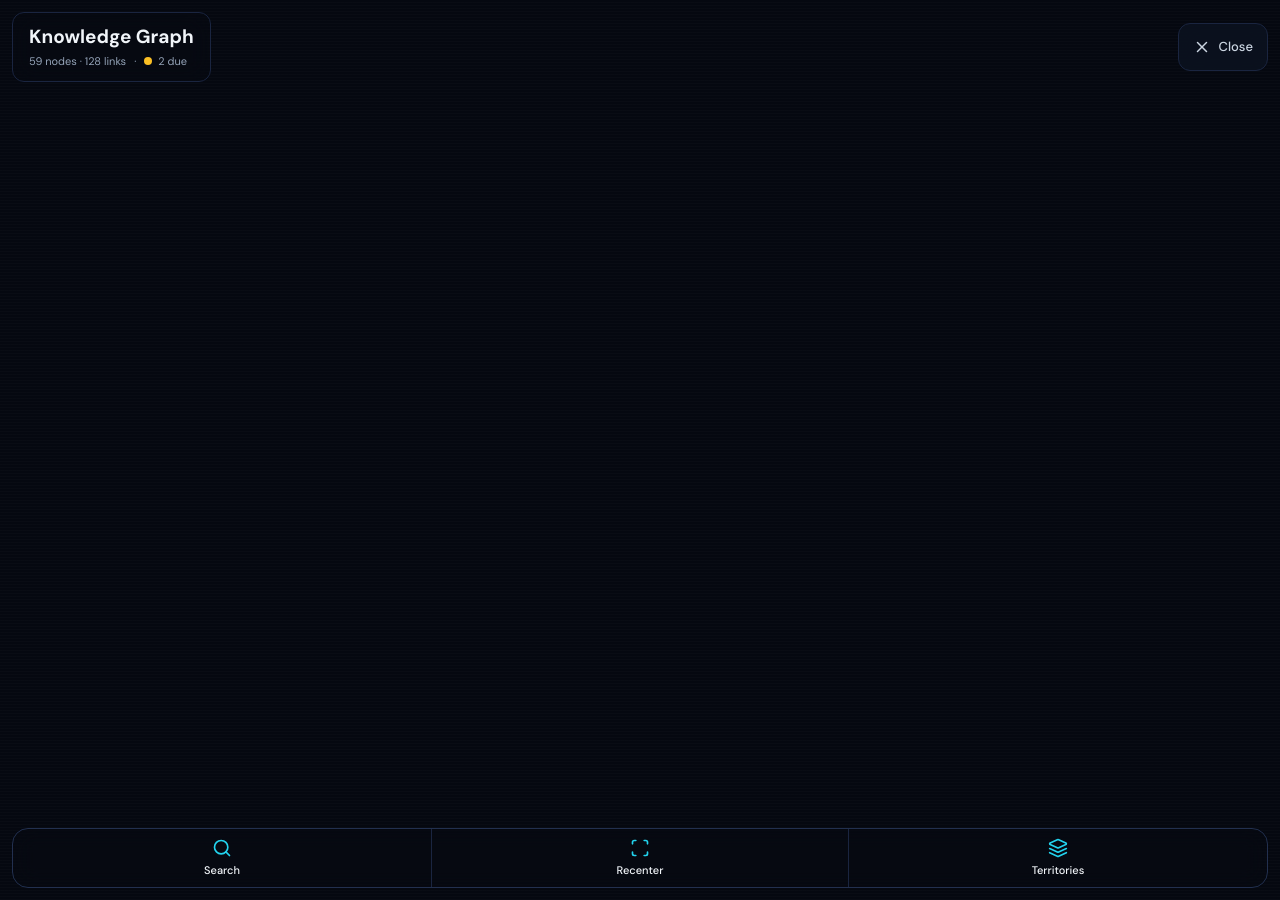
Test: KnowledgeGraph › filters search results as you type
Click the button "Search" at (222, 858), box [13,829,431,887]
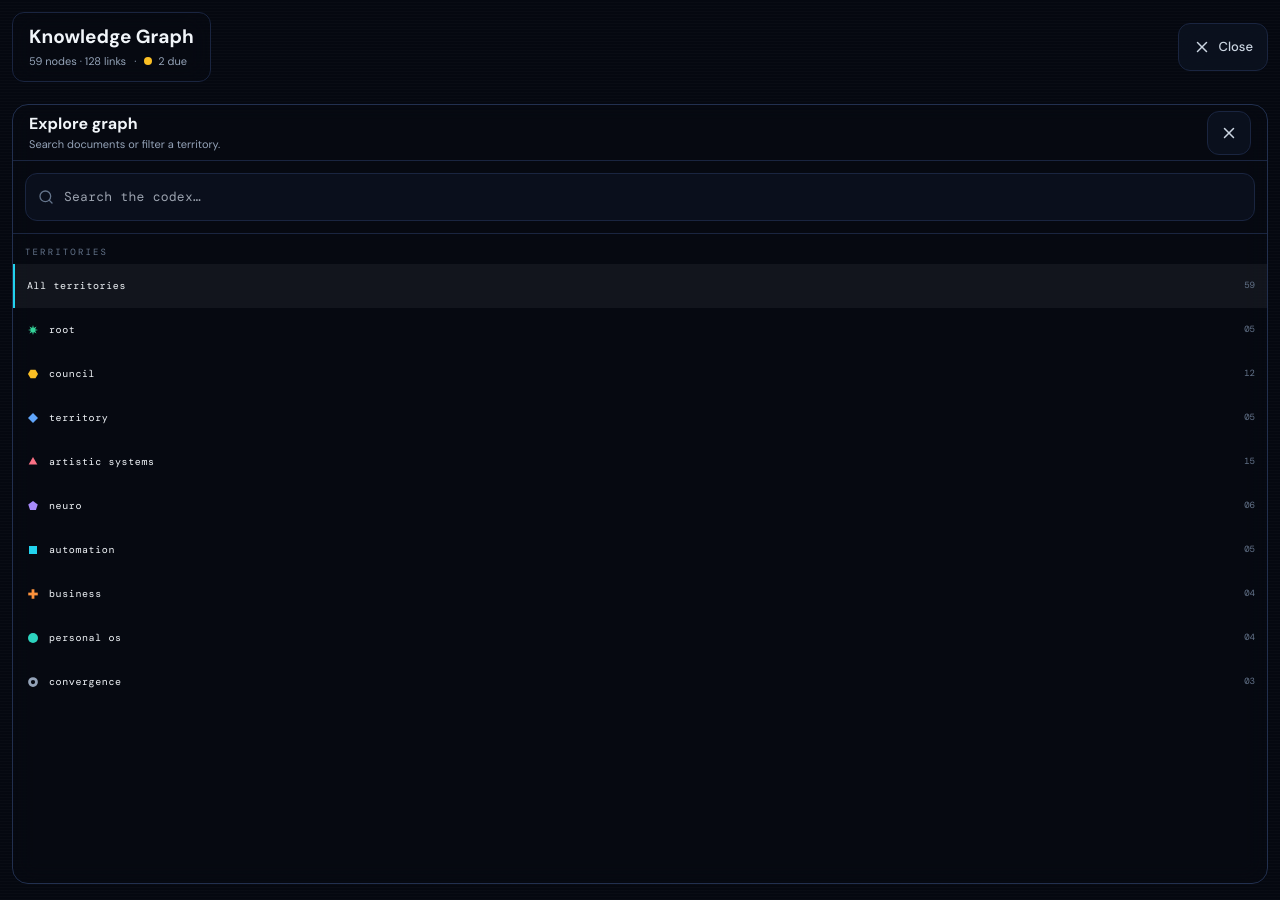
Type "authorship" into the field with placeholder "Search the codex…" at (653, 197), box [64,187,1242,207]
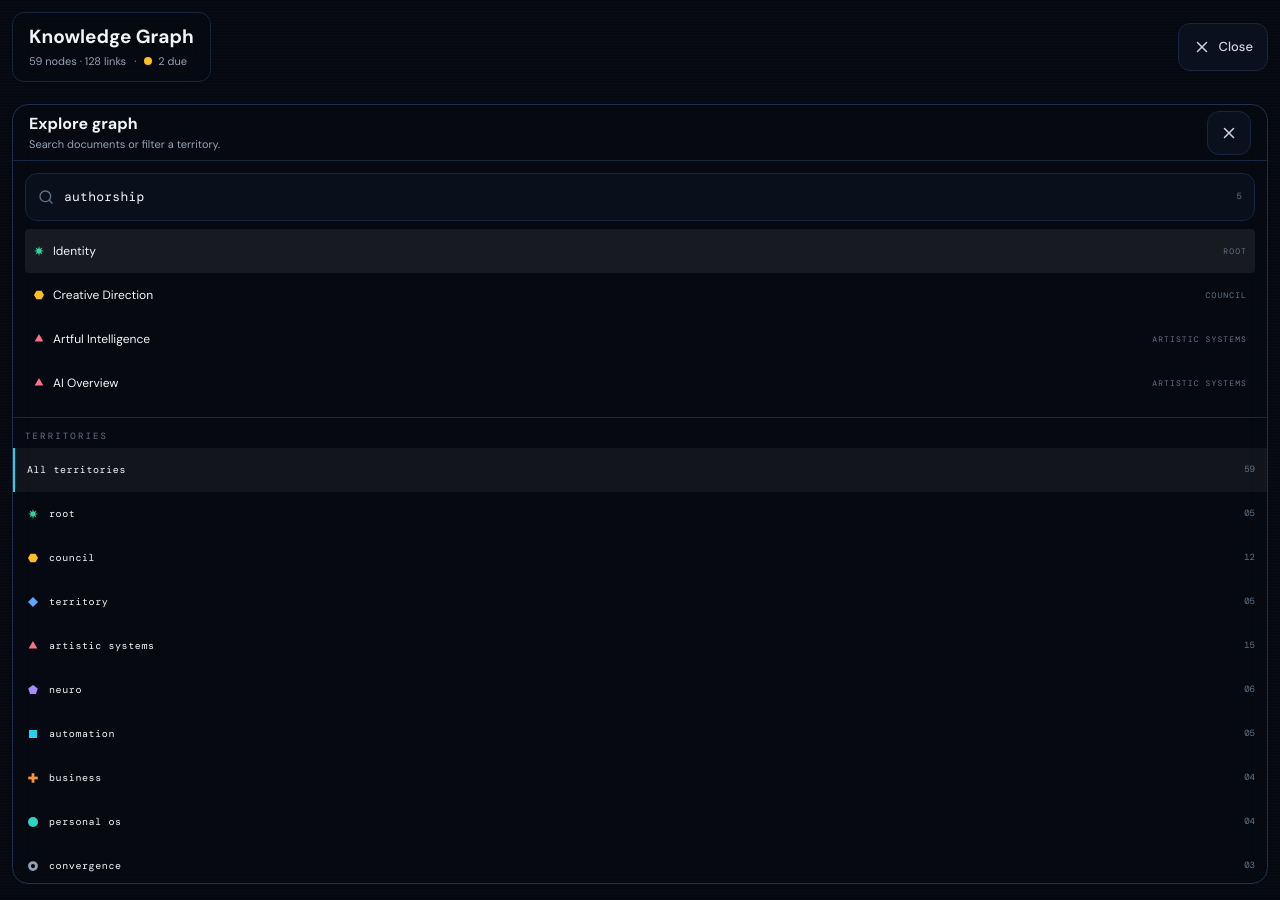
expect the list named "search results" is shown: met, box [25,229,1255,405]
expect the option "Identity root" is shown: met, box [25,229,1255,273]
Press Enter
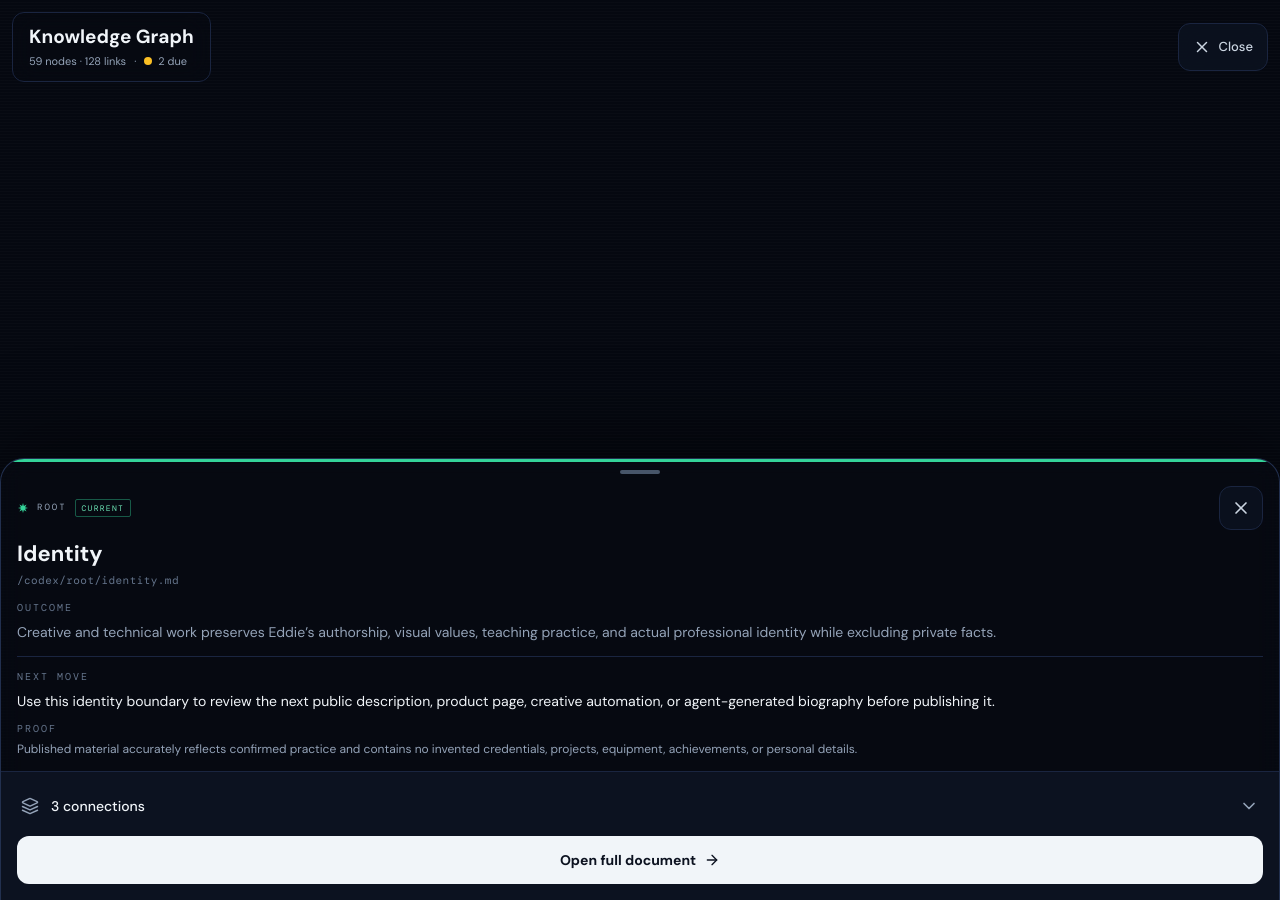
expect the dialog named "node details" is shown: met, box [0,458,1279,899]
